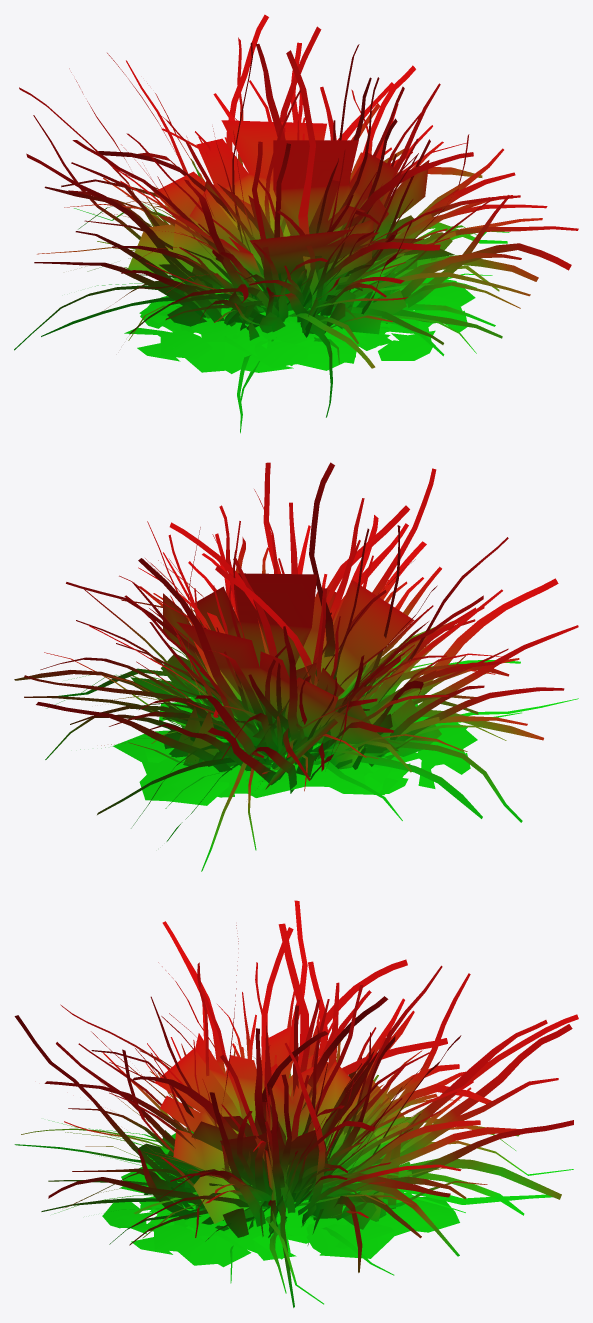
The model's file is Wild Grass_LOD2_Var4_vczndjqja.fbx.
3 renders of one model, top to bottom at view 1: azimuth 30°, elevation 25°; view 2: azimuth 150°, elevation 25°; view 3: azimuth 270°, elevation 25°, orthographic. The views are drawn at different scales.
Visible parts, largest first — view 1: _whp6_Var4_LOD2; view 2: _whp6_Var4_LOD2; view 3: _whp6_Var4_LOD2.
Boxes of the visible parts, x1=… form: _whp6_Var4_LOD2: x1=14, y1=14, x2=578, y2=433; _whp6_Var4_LOD2: x1=14, y1=462, x2=578, y2=871; _whp6_Var4_LOD2: x1=14, y1=900, x2=578, y2=1307.
Size of the model in its own units: 109 by 58.95 by 109.
